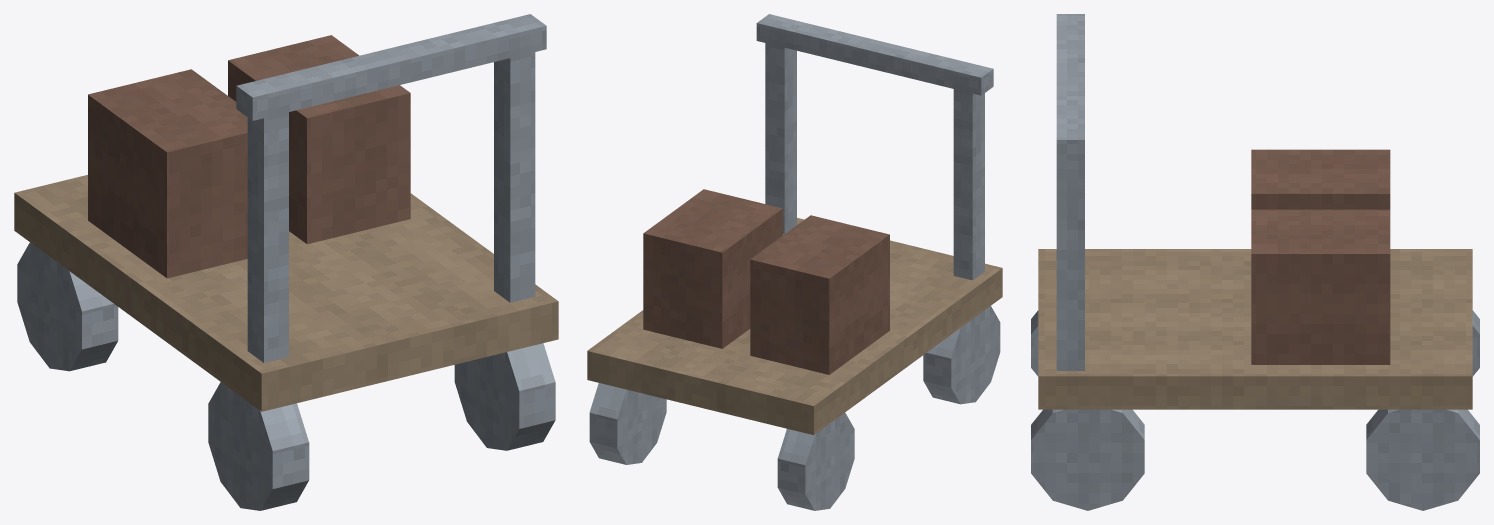
Rendered from level_blockout_rail_luggage_cart.glb.
3 renders of one model, left to right at view 1: azimuth 30°, elevation 25°; view 2: azimuth 150°, elevation 25°; view 3: azimuth 270°, elevation 25°, orthographic. The views are drawn at different scales.
Visible parts, largest first — view 1: level_blockout_rail_luggage_cart; view 2: level_blockout_rail_luggage_cart; view 3: level_blockout_rail_luggage_cart.
Part boxes in pixels (x1,y1,x2,y2): level_blockout_rail_luggage_cart: [14, 14, 558, 510]; level_blockout_rail_luggage_cart: [587, 14, 1002, 510]; level_blockout_rail_luggage_cart: [1031, 14, 1479, 510].
Bounding box in the file's own units: 1.06 × 1.45 × 1.58.
3 materials, 3 textured.
